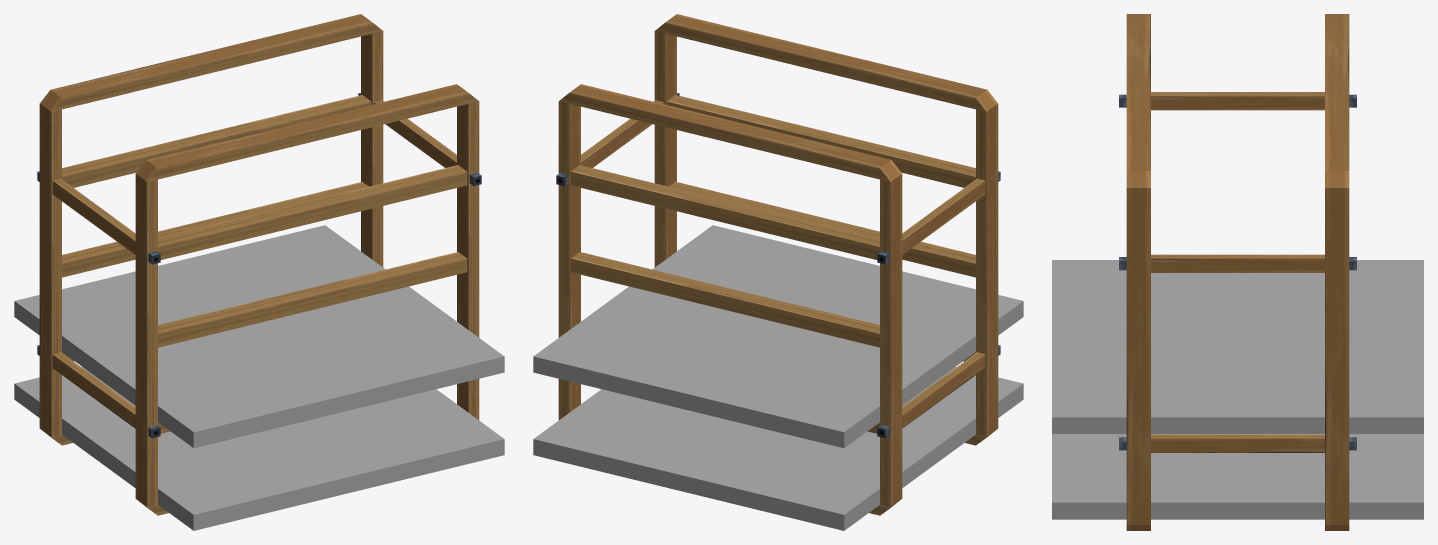
Rendered from GlassStacked2.fbx.
The picture shows the model from 3 angles, left to right: view 1: azimuth 30°, elevation 25°; view 2: azimuth 150°, elevation 25°; view 3: azimuth 270°, elevation 25°; orthographic projection. The views are drawn at different scales.
Visible parts, largest first — view 1: GlassStacked2; view 2: GlassStacked2; view 3: GlassStacked2.
Boxes of the visible parts, x1,y1,x2,y2 form: GlassStacked2: [14, 14, 504, 530]; GlassStacked2: [533, 14, 1023, 530]; GlassStacked2: [1052, 14, 1423, 530].
Bounding box in the file's own units: 100 × 100 × 93.64.
